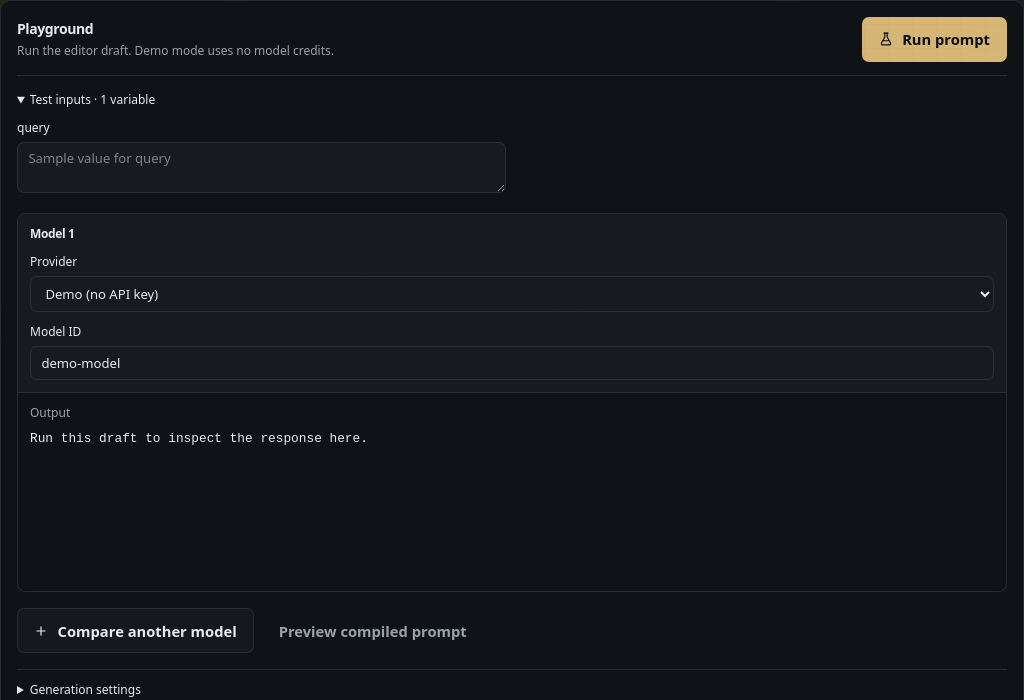
it: prompt playground › compiles sample variables and displays partial model failures without losing successful output
This screenshot has width=1024, height=700.
Step 1. Type "sample" into the text box labelled "query" → (262, 167), box [17,142,506,193]
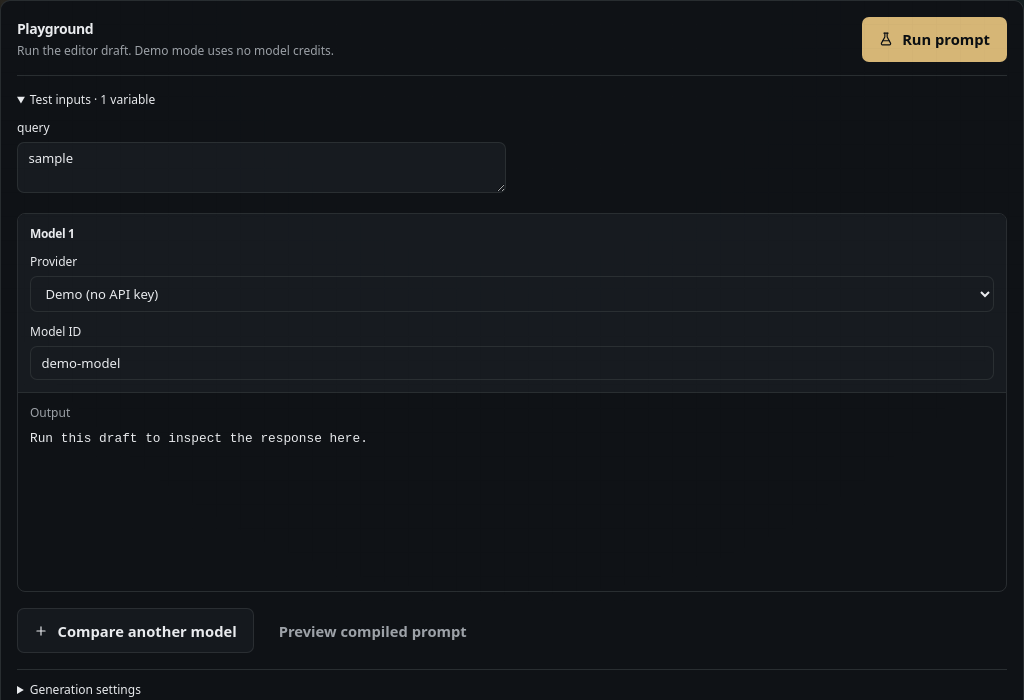
Step 2. Click the button "Compare another model" → (135, 631), box [17,608,254,653]
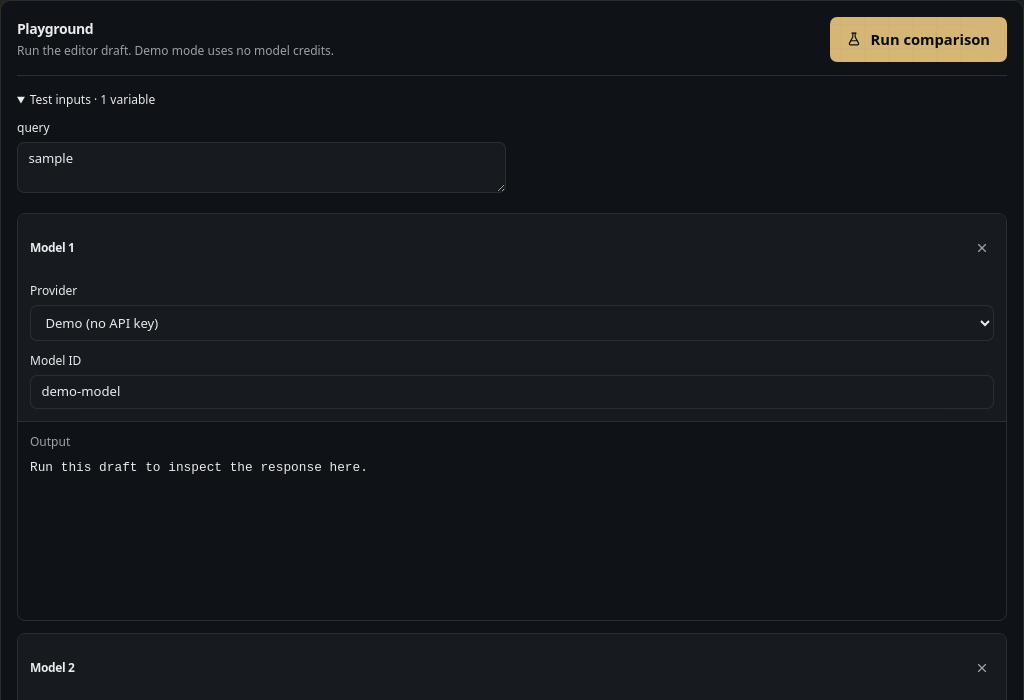
Step 3. Click the button "Run comparison" → (918, 39), box [830,17,1007,62]
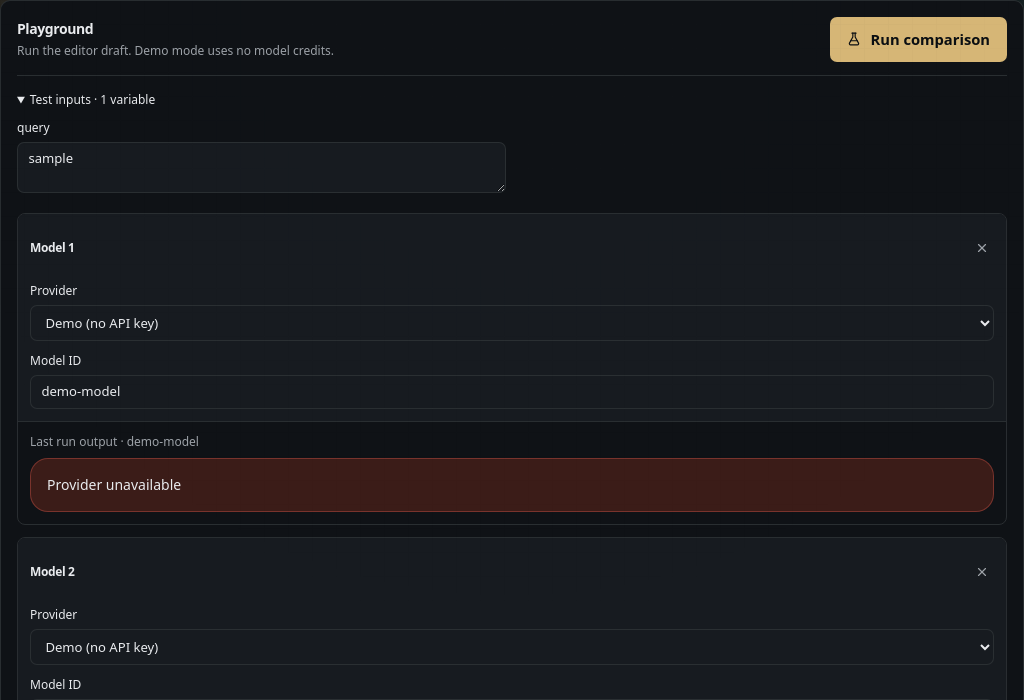
Result: the message reads "Provider unavailable" at [47,475,181,494]
